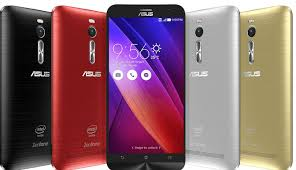asus: (105, 2, 186, 169), (182, 3, 244, 170), (48, 4, 106, 166), (240, 3, 296, 170), (1, 5, 58, 167)
